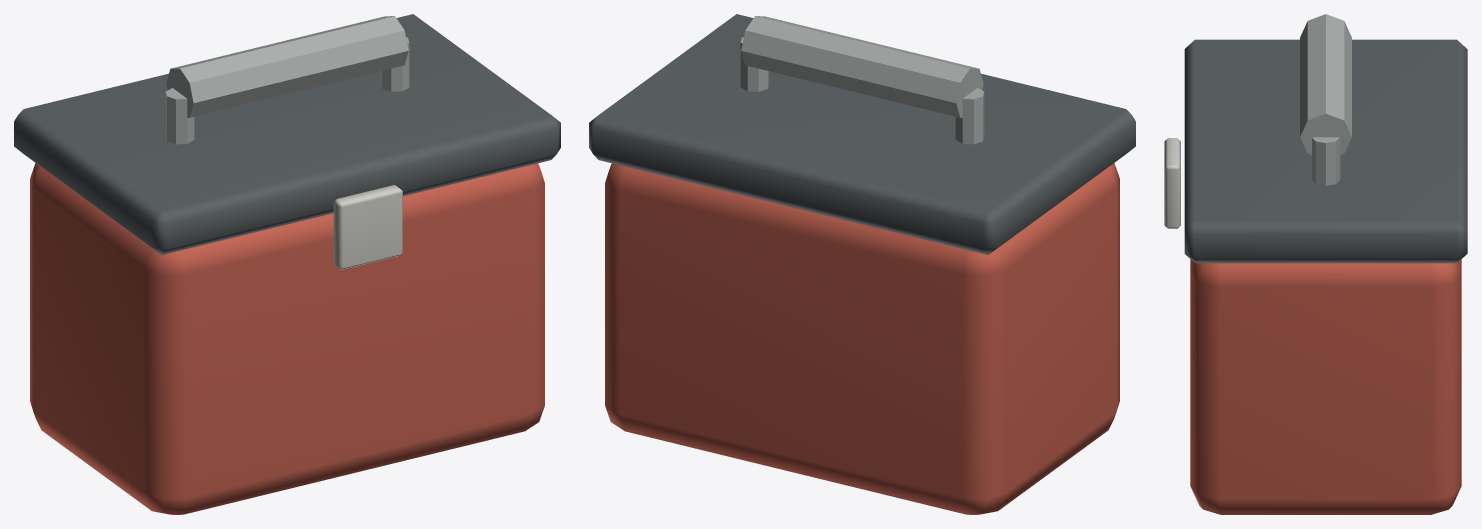
The model's file is Equipment_Toolbox.fbx.
3 views of the same model, side by side, from view 1: azimuth 30°, elevation 25°; view 2: azimuth 150°, elevation 25°; view 3: azimuth 270°, elevation 25° (orthographic). The views are drawn at different scales.
Visible parts, largest first — view 1: G11_toolbox beveled case, G11_dark split lid, G11_pivot carry handle, G11_snap latch, G11_connected handle foot, G11_connected handle foot.001; view 2: G11_toolbox beveled case, G11_dark split lid, G11_pivot carry handle, G11_connected handle foot, G11_connected handle foot.001; view 3: G11_toolbox beveled case, G11_dark split lid, G11_pivot carry handle, G11_snap latch, G11_connected handle foot.001.
Part boxes in pixels (x1,y1,x2,y2): G11_toolbox beveled case: [30, 163, 544, 514]; G11_dark split lid: [14, 14, 560, 254]; G11_pivot carry handle: [166, 16, 408, 117]; G11_snap latch: [333, 185, 402, 269]; G11_connected handle foot: [165, 88, 194, 144]; G11_connected handle foot.001: [380, 37, 409, 91]; G11_toolbox beveled case: [605, 163, 1119, 514]; G11_dark split lid: [589, 14, 1135, 254]; G11_pivot carry handle: [741, 16, 983, 117]; G11_connected handle foot: [955, 88, 984, 144]; G11_connected handle foot.001: [740, 37, 769, 91]; G11_toolbox beveled case: [1190, 259, 1461, 514]; G11_dark split lid: [1184, 39, 1467, 263]; G11_pivot carry handle: [1300, 14, 1351, 155]; G11_snap latch: [1164, 138, 1180, 228]; G11_connected handle foot.001: [1312, 137, 1340, 185].
Bounding box in the file's own units: 0.3788 × 0.3459 × 0.2562.
